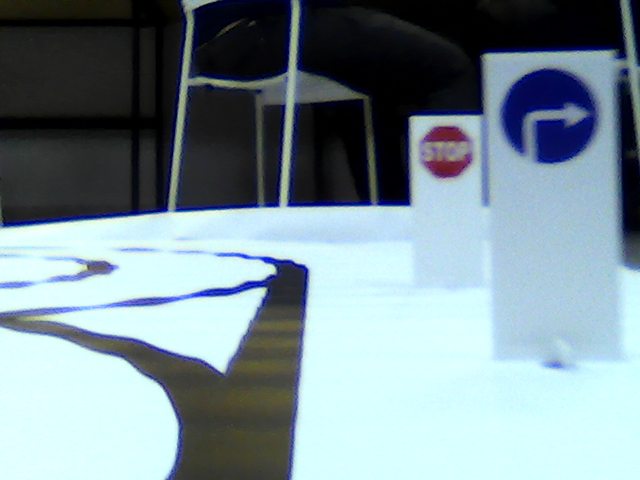Right: (500, 68, 600, 159)
Stop: (419, 123, 475, 180)
